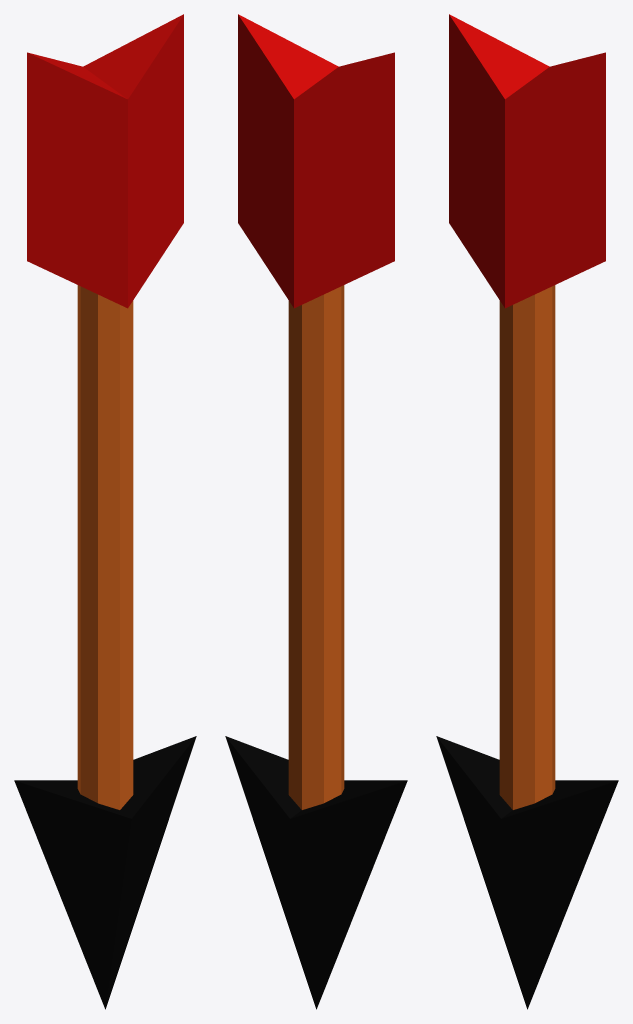
Rendered from Arrow.fbx.
The picture shows the model from 3 angles, left to right: view 1: azimuth 30°, elevation 25°; view 2: azimuth 150°, elevation 25°; view 3: azimuth 330°, elevation 25°; orthographic projection.
Parts seen in each view (by area): view 1: dagger5.002; view 2: dagger5.002; view 3: dagger5.002.
Part boxes in pixels (left/top/right/bottom): dagger5.002: left=14, top=14, right=196, bottom=1009; dagger5.002: left=225, top=14, right=407, bottom=1009; dagger5.002: left=436, top=14, right=618, bottom=1009.
Size of the model in its own units: 20.53 by 105 by 10.26.
